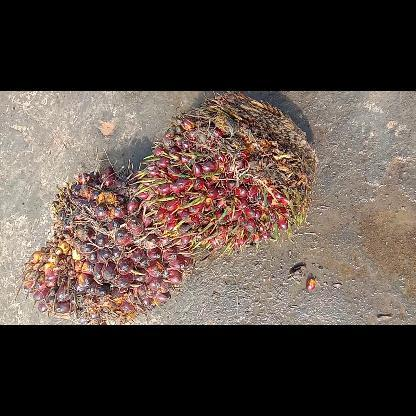Kurang masak: (130, 91, 318, 256)
TBS masak: (21, 162, 192, 324)
